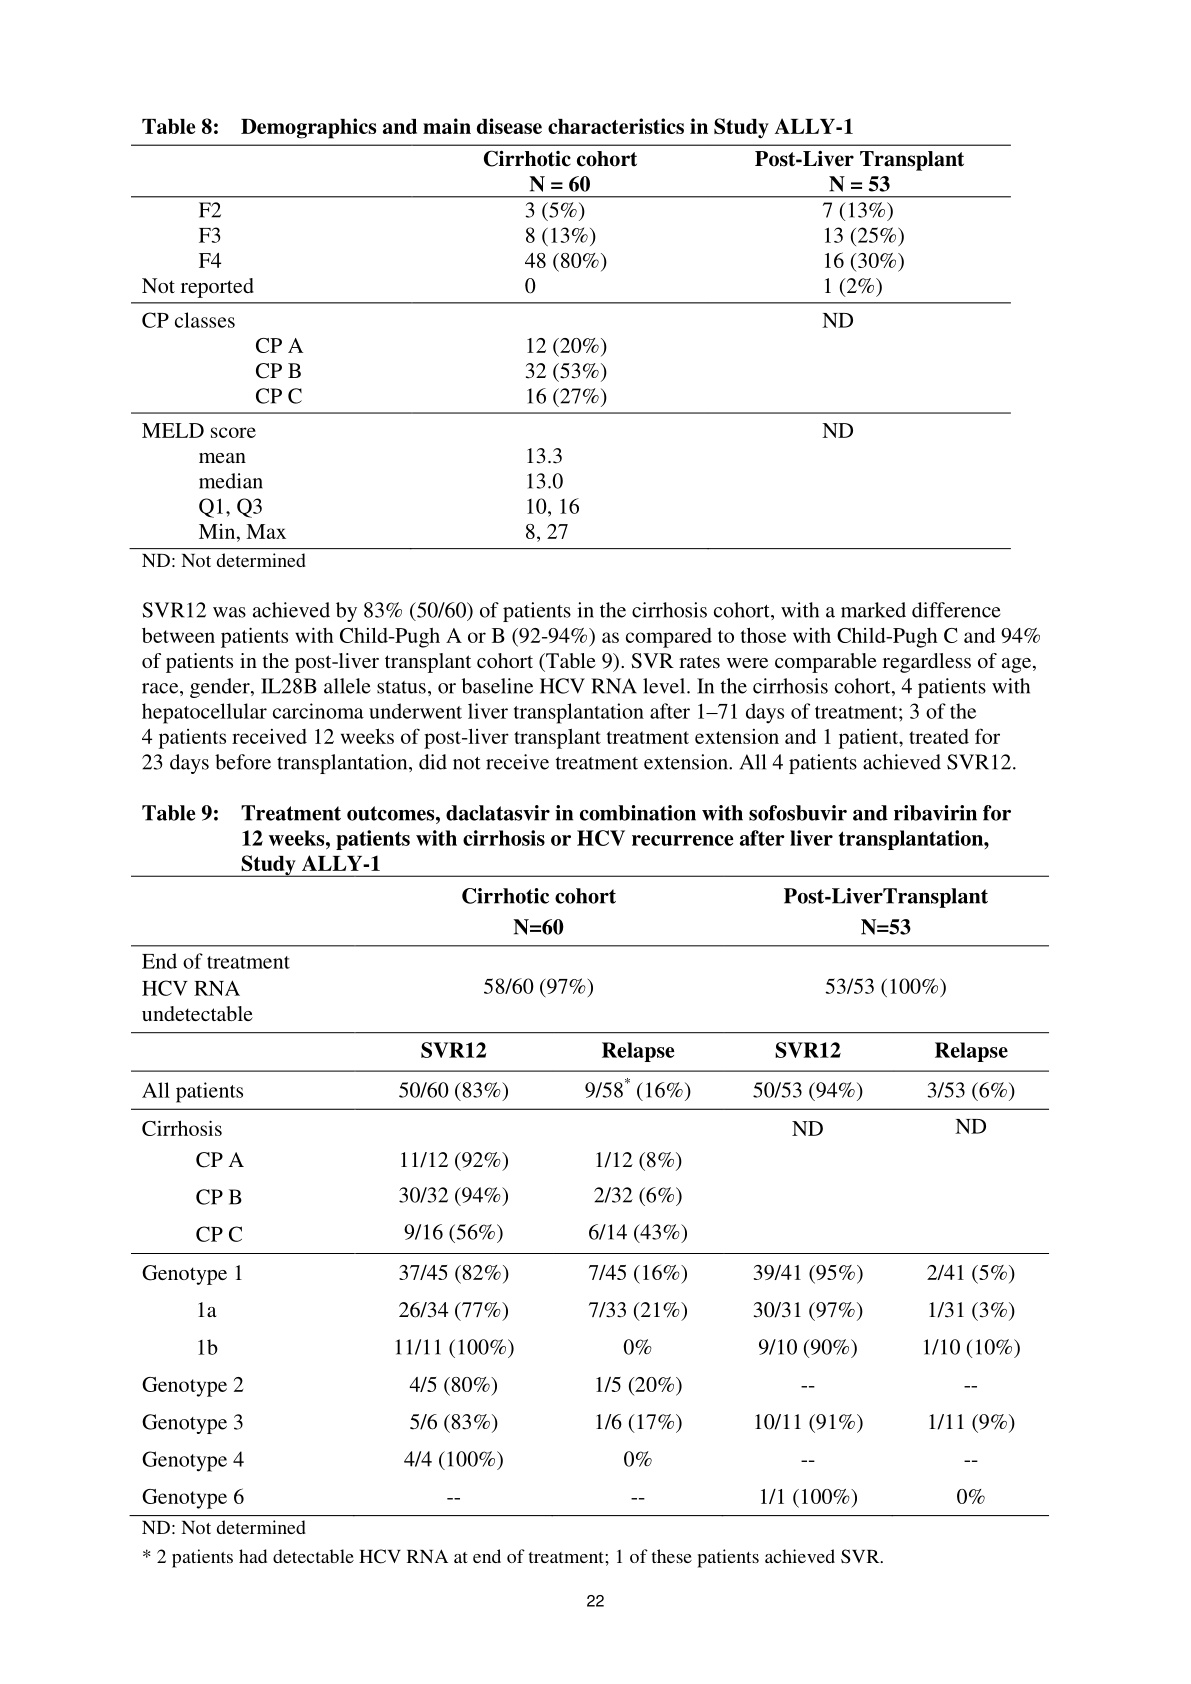partial_lined: (128, 138, 1017, 554)
partial_lined_merged_cells: (125, 868, 1062, 1519)
